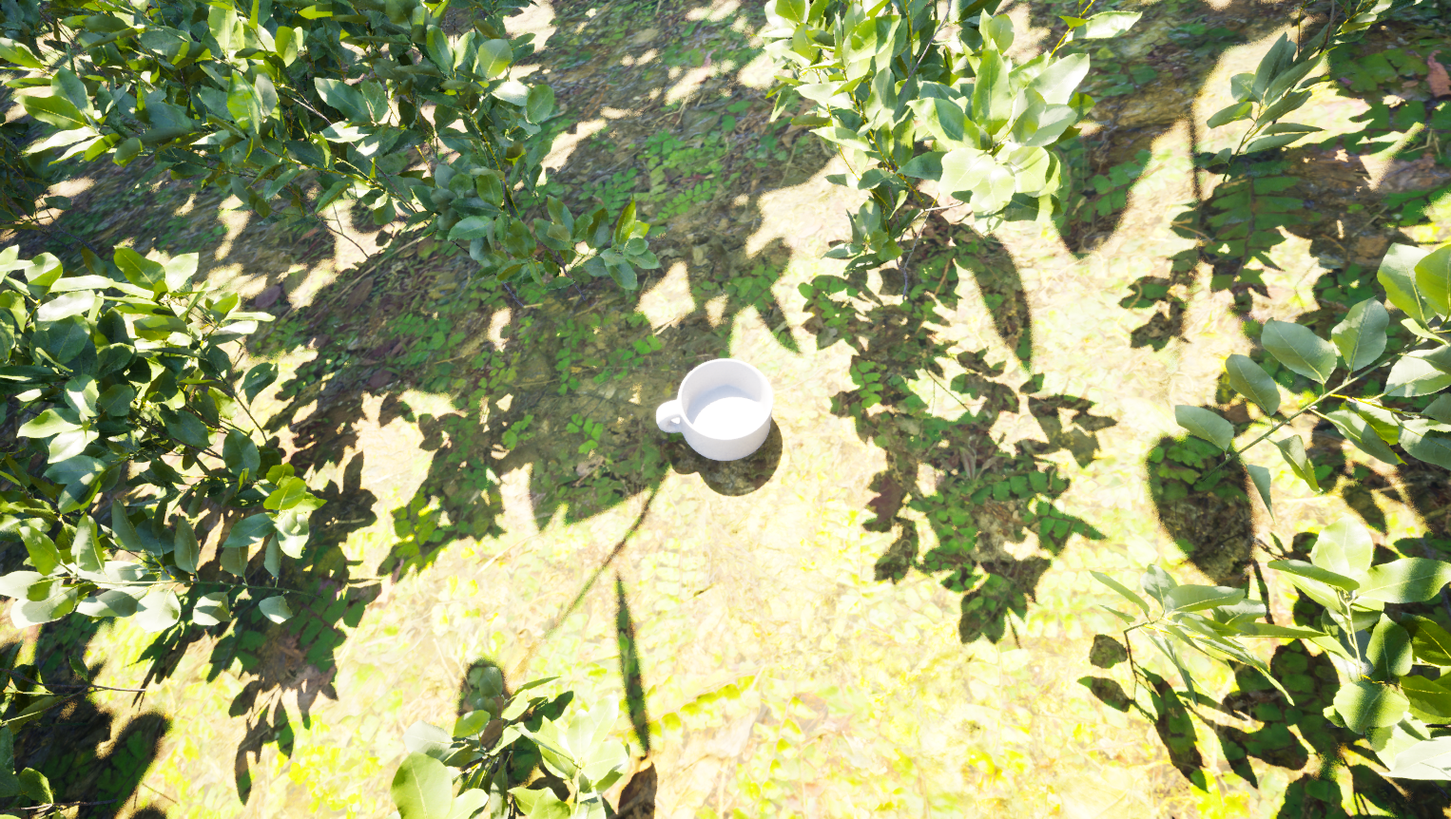Teacup: (648, 342, 787, 475)
